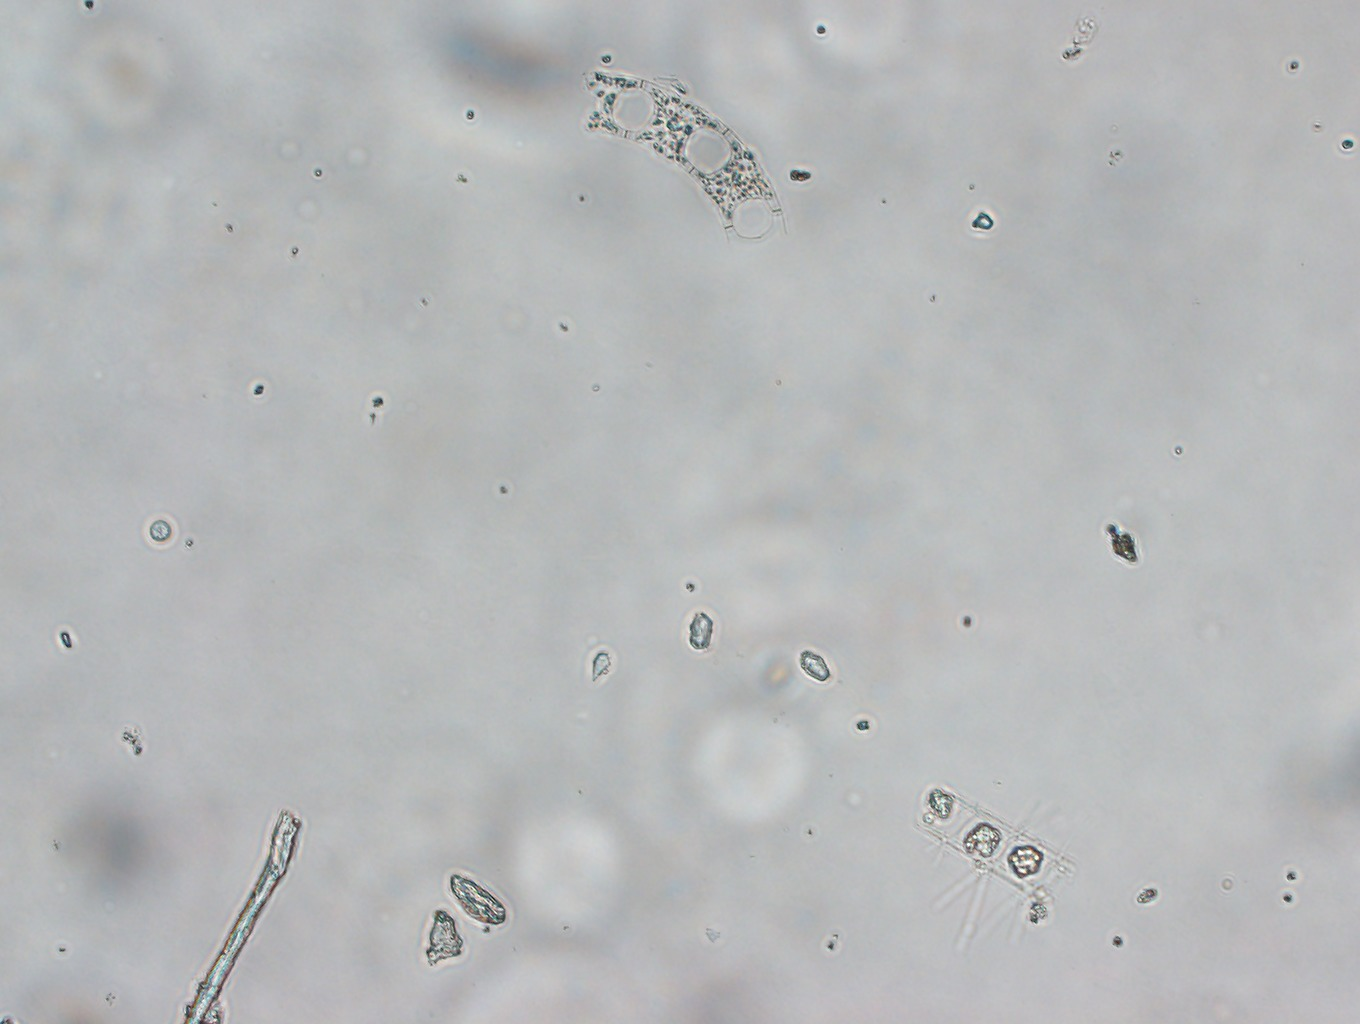chaetoceros: (887, 768, 1090, 968)
eucampia: (568, 63, 790, 250)
